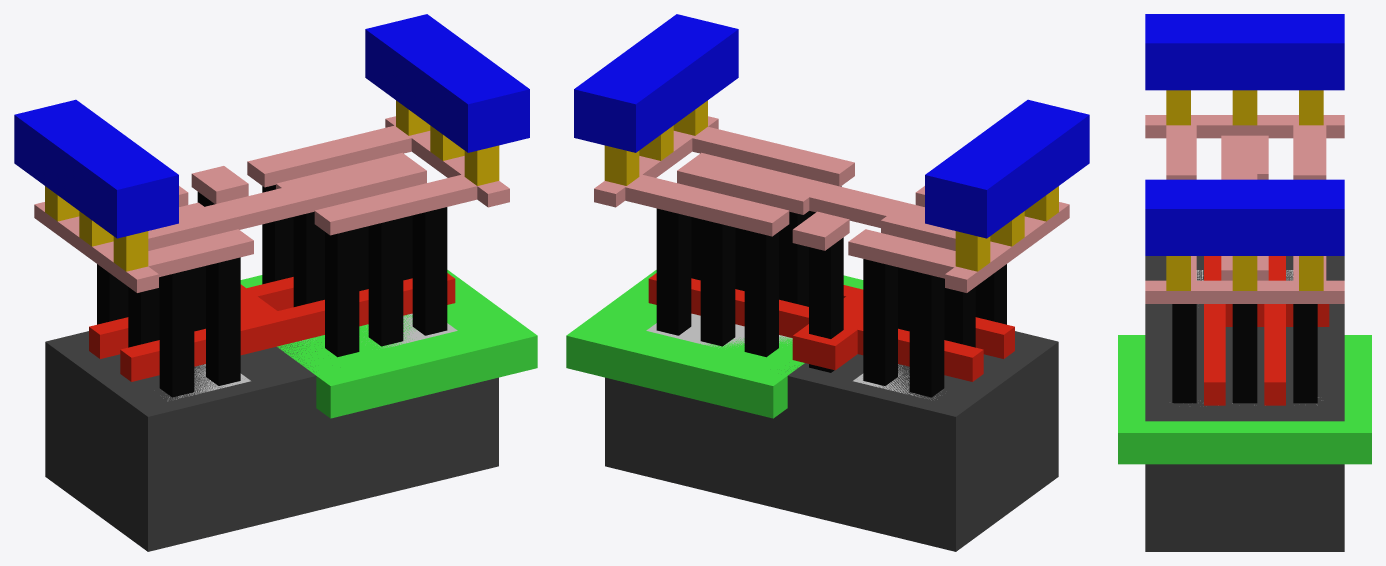
File: sky130_fd_sc_hd__inv_2.obj
The picture shows the model from 3 angles, left to right: view 1: azimuth 30°, elevation 25°; view 2: azimuth 150°, elevation 25°; view 3: azimuth 270°, elevation 25°; orthographic projection. The views are drawn at different scales.
Visible parts, largest first — view 1: subs, licon, metal1, li, nwell, poly, mcon, diff; view 2: subs, licon, metal1, li, nwell, poly, mcon, tap; view 3: metal1, subs, nwell, li, licon, poly, mcon.
Part boxes in pixels (bbox=[...]): subs: bbox=[45, 331, 498, 551]; licon: bbox=[97, 185, 447, 397]; metal1: bbox=[14, 14, 529, 238]; li: bbox=[34, 116, 509, 292]; nwell: bbox=[240, 270, 537, 418]; poly: bbox=[89, 273, 455, 381]; mcon: bbox=[45, 100, 499, 271]; diff: bbox=[163, 364, 250, 401]; subs: bbox=[605, 331, 1058, 551]; licon: bbox=[656, 186, 1006, 397]; metal1: bbox=[574, 14, 1089, 238]; li: bbox=[594, 116, 1069, 292]; nwell: bbox=[566, 270, 863, 418]; poly: bbox=[648, 273, 1014, 381]; mcon: bbox=[604, 100, 1058, 271]; tap: bbox=[646, 313, 792, 348]; metal1: bbox=[1145, 14, 1344, 255]; subs: bbox=[1145, 256, 1344, 551]; nwell: bbox=[1118, 335, 1371, 464]; li: bbox=[1145, 115, 1344, 303]; licon: bbox=[1172, 304, 1317, 403]; poly: bbox=[1204, 256, 1329, 405]; mcon: bbox=[1166, 90, 1323, 290].
Size of the model in its own units: 3.2 by 2.74 by 1.76.
